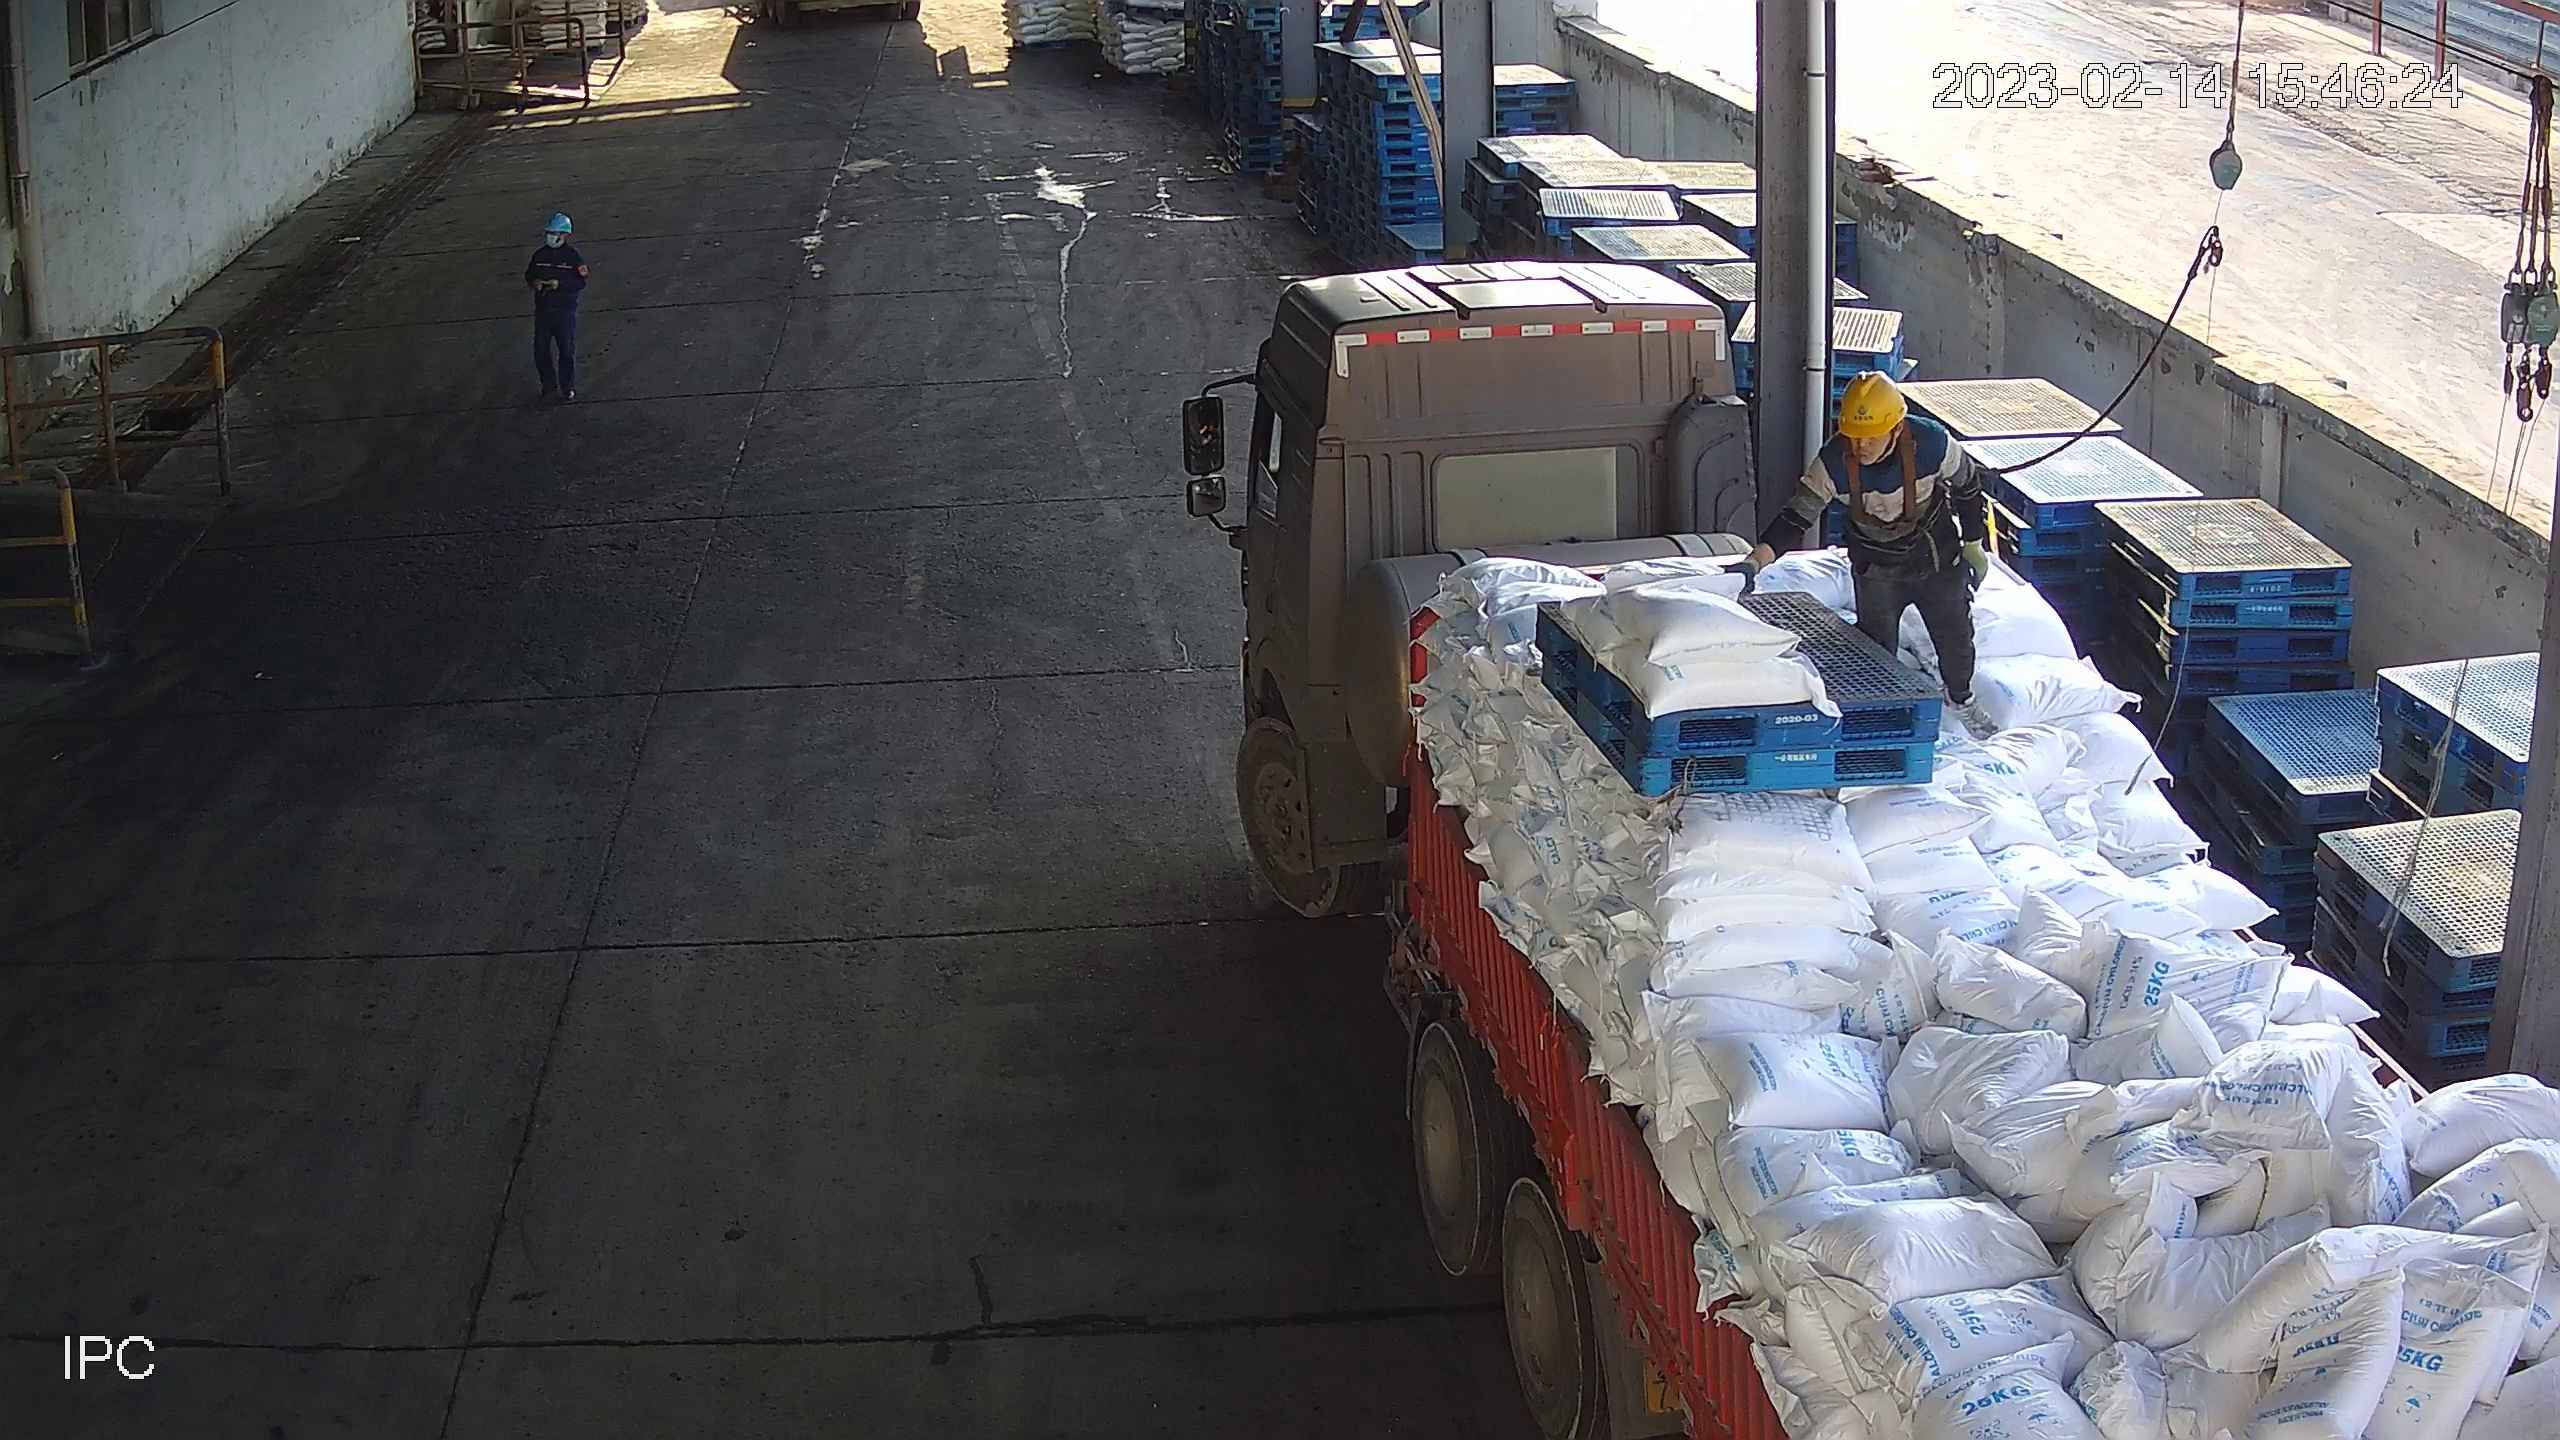belt: (1837, 429, 2004, 544)
head: (1808, 369, 1973, 478), (527, 210, 586, 263)
helmet: (1836, 369, 1909, 440), (541, 211, 575, 236)
people: (1715, 368, 2004, 745), (520, 208, 594, 407)
truck: (1222, 259, 2560, 1440)
